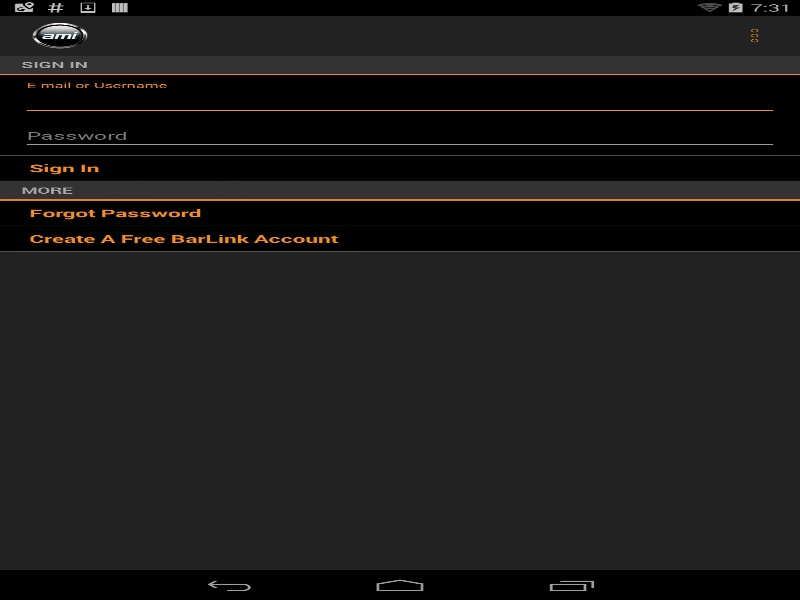Button: (0, 251, 800, 276), (0, 276, 800, 301), (10, 15, 88, 55)
Input: (21, 122, 778, 150), (21, 88, 778, 115)
